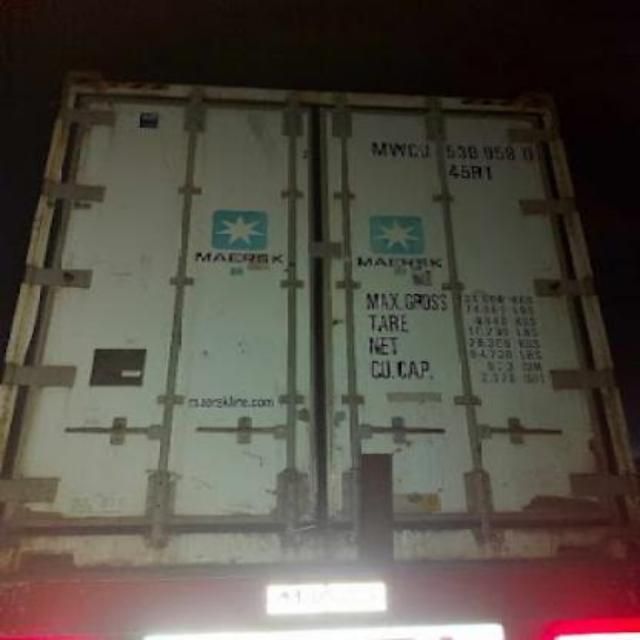0: (466, 138, 479, 164), (520, 140, 534, 163)
3: (454, 142, 468, 162)
5: (492, 136, 506, 168), (440, 140, 456, 160)
8: (504, 139, 516, 165)
9: (476, 138, 494, 166)
C: (406, 135, 419, 165)
M: (370, 136, 388, 160)
U: (416, 136, 436, 162)
W: (386, 134, 406, 162)
